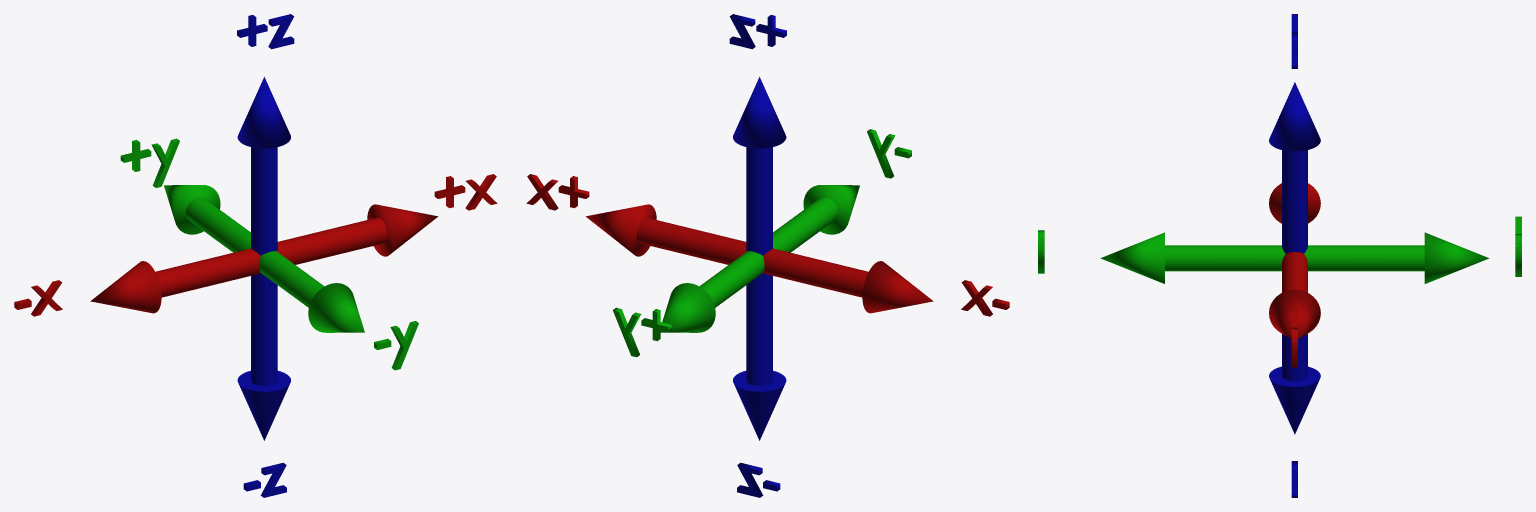
Rendered from test-axes.obj.
3 renders of one model, left to right at view 1: azimuth 30°, elevation 25°; view 2: azimuth 150°, elevation 25°; view 3: azimuth 270°, elevation 25°, orthographic. The views are drawn at different scales.
Parts seen in each view (by area): view 1: Cylinder, Cylinder.002, Cylinder.001, Cylinder.003, Cylinder.004, Cylinder.005, Text.004, Text, Text.003, Text.005, Text.001, Text.002; view 2: Cylinder, Cylinder.002, Cylinder.001, Cylinder.003, Cylinder.005, Cylinder.004, Text.004, Text, Text.003, Text.005, Text.001, Text.002; view 3: Cylinder.005, Cylinder.004, Cylinder, Cylinder.003, Cylinder.001, Cylinder.002.
Boxes of the visible parts, x1,y1,x2,y2 form: Cylinder: [237, 77, 290, 255]; Cylinder.002: [90, 248, 260, 313]; Cylinder.001: [237, 273, 290, 440]; Cylinder.003: [277, 204, 437, 264]; Cylinder.004: [259, 251, 364, 332]; Cylinder.005: [164, 185, 250, 252]; Text.004: [120, 138, 179, 187]; Text: [237, 14, 294, 49]; Text.003: [434, 174, 497, 210]; Text.005: [374, 321, 418, 370]; Text.001: [243, 462, 286, 497]; Text.002: [14, 280, 62, 316]; Cylinder: [733, 77, 786, 255]; Cylinder.002: [763, 248, 933, 313]; Cylinder.001: [733, 273, 786, 440]; Cylinder.003: [586, 204, 746, 264]; Cylinder.005: [660, 251, 764, 332]; Cylinder.004: [773, 185, 859, 252]; Text.004: [613, 307, 671, 357]; Text: [729, 14, 786, 49]; Text.003: [526, 174, 589, 210]; Text.005: [867, 129, 911, 178]; Text.001: [737, 462, 780, 497]; Text.002: [961, 280, 1009, 316]; Cylinder.005: [1304, 232, 1489, 283]; Cylinder.004: [1100, 232, 1285, 283]; Cylinder: [1269, 82, 1320, 253]; Cylinder.003: [1269, 252, 1320, 338]; Cylinder.001: [1269, 333, 1320, 434]; Cylinder.002: [1269, 183, 1320, 223].
Bounding box in the file's own units: 8.27 × 7.94 × 7.45.
